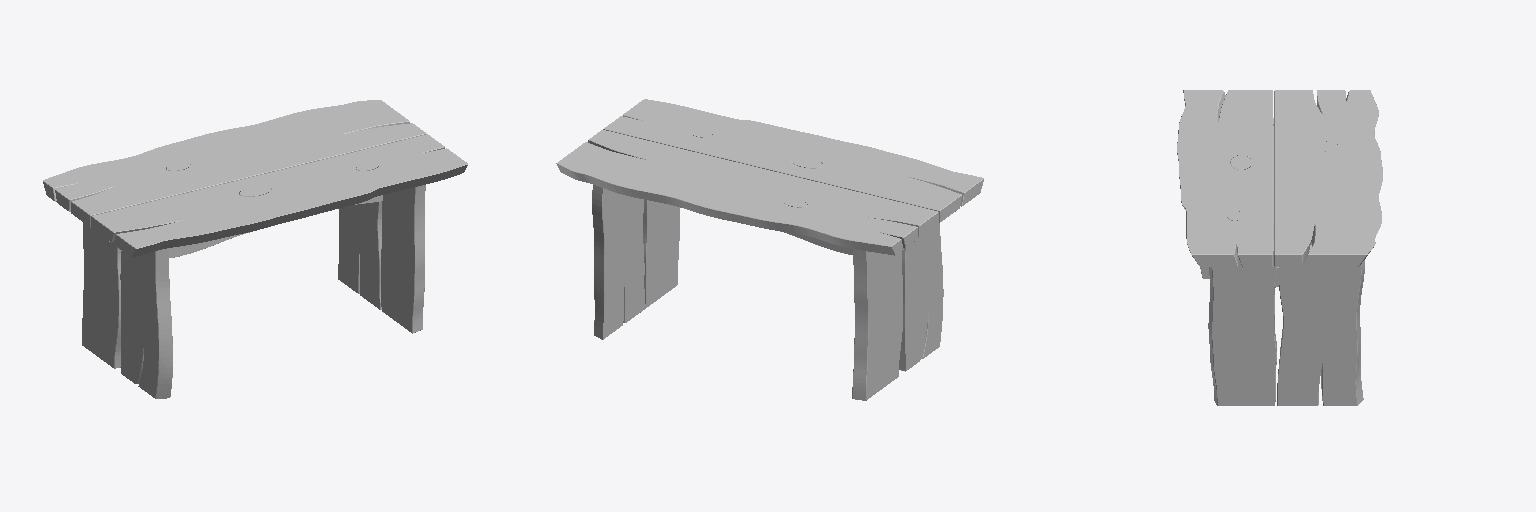
The model's file is table.obj.
3 views of the same model, side by side, from view 1: azimuth 30°, elevation 25°; view 2: azimuth 150°, elevation 25°; view 3: azimuth 270°, elevation 25° (orthographic).
Visible parts, largest first — view 1: Mesh; view 2: Mesh; view 3: Mesh.
Part boxes in pixels (x1,y1,x2,y2): Mesh: (43,100,467,398); Mesh: (556,99,983,400); Mesh: (1177,90,1382,405).
Bounding box in the file's own units: 3.26 × 1.55 × 1.73.